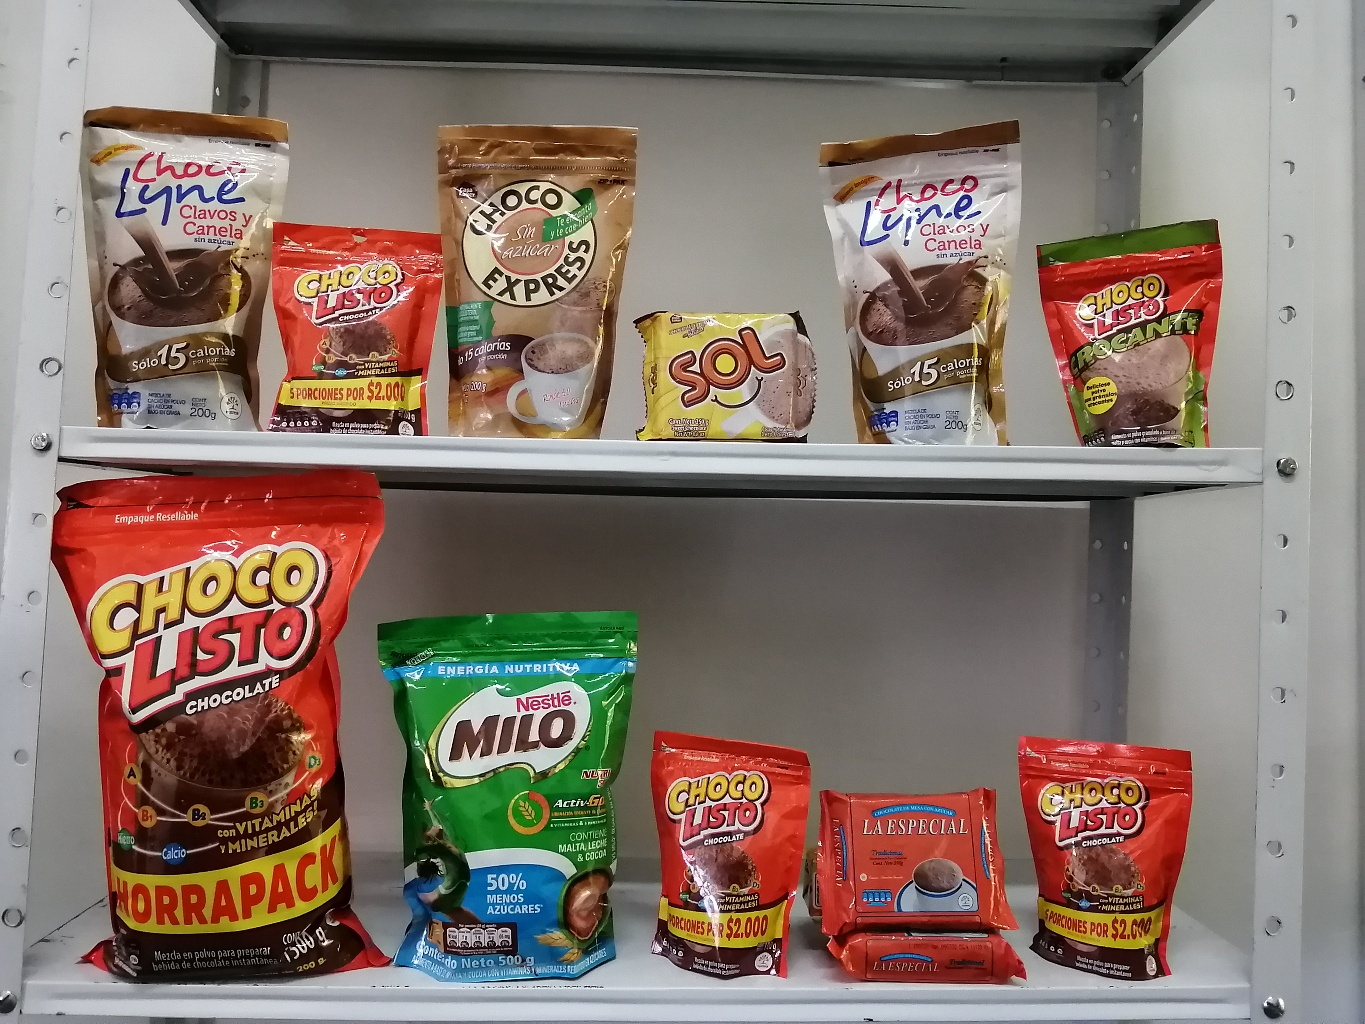COL0170102DYP10000: (1035, 221, 1229, 446)
COL0170103DYP1,500: (56, 467, 393, 980)
COL0170205DYP50000: (381, 618, 636, 984)
